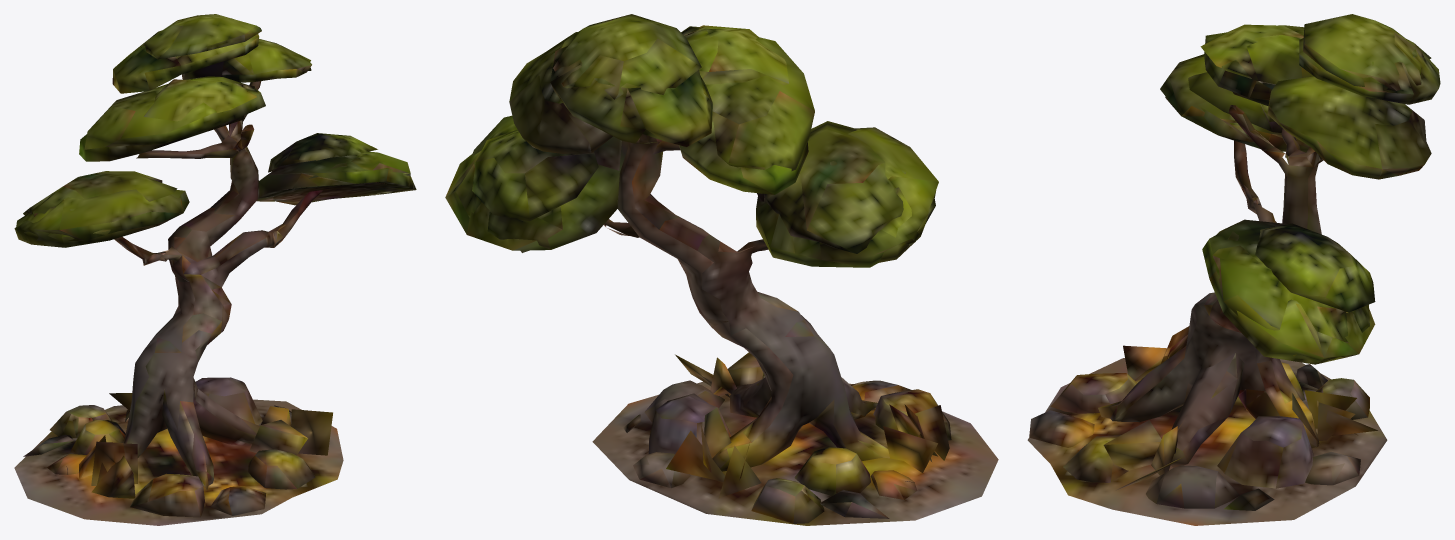
The model's file is tree_02.glb.
The picture shows the model from 3 angles, left to right: view 1: azimuth 30°, elevation 25°; view 2: azimuth 150°, elevation 25°; view 3: azimuth 270°, elevation 25°; orthographic projection. The views are drawn at different scales.
Visible parts, largest first — view 1: tree_02; view 2: tree_02; view 3: tree_02.
Boxes of the visible parts, <box> form: tree_02: <box>14,14,416,525</box>; tree_02: <box>445,14,998,525</box>; tree_02: <box>1027,14,1440,525</box>.
Bounding box in the file's own units: 9.05 × 8 × 6.46.
1 material, 1 textured.
